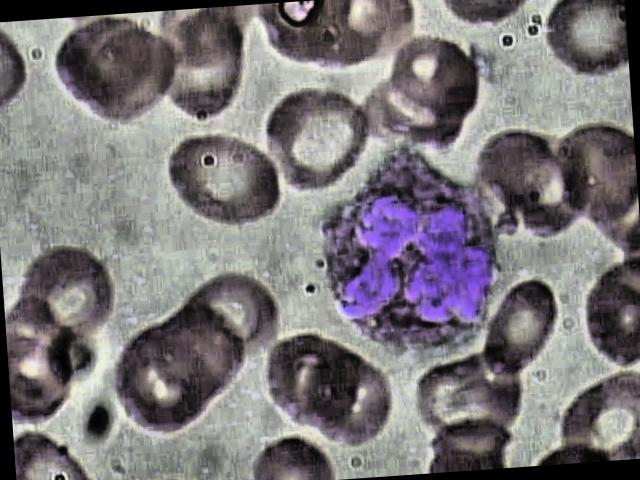RBC: (156, 120, 290, 242), (266, 74, 382, 206), (98, 329, 216, 441), (75, 26, 187, 132), (11, 242, 115, 354), (384, 33, 500, 126), (304, 353, 400, 453), (365, 70, 471, 160), (252, 338, 350, 432), (527, 0, 629, 88), (478, 278, 565, 378)
WBC: (299, 129, 517, 366)
